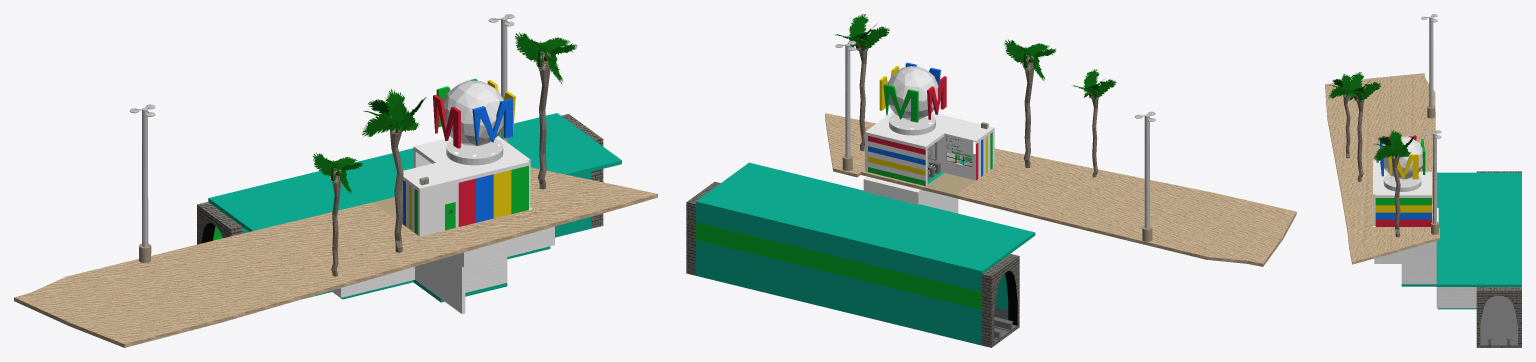
The model's file is Metro Entrance - Beachfront.glb.
3 renders of one model, left to right at view 1: azimuth 30°, elevation 25°; view 2: azimuth 150°, elevation 25°; view 3: azimuth 270°, elevation 25°, orthographic. The views are drawn at different scales.
Parts seen in each view (by area): view 1: Ground.001, Underground, Ext, Walls, Sign, Branches, Post, Endcaps, Air Outlet, Trunk.001, Trunk, Ground (+1 smaller); view 2: Underground, Ground.001, Ext, Endcaps, Sign, Branches, Post, Walls, Int Wall, Ground, Air Outlet, Trunk (+1 smaller); view 3: Underground, Ground.001, Walls, Ext, Branches, Endcaps, Sign, Post, Rails, Air Outlet, Trunk.001, Trunk (+2 smaller).
Boxes of the visible parts, box(x1,y1,x2,y2) form: Ground.001: box(14, 167, 657, 347); Underground: box(208, 113, 621, 302); Ext: box(401, 136, 532, 236); Walls: box(331, 226, 554, 313); Sign: box(433, 78, 515, 148); Branches: box(313, 32, 577, 193); Post: box(129, 14, 514, 262); Endcaps: box(197, 114, 603, 244); Air Outlet: box(446, 138, 503, 165); Trunk.001: box(535, 51, 550, 189); Trunk: box(389, 116, 403, 252); Ground: box(369, 197, 537, 238); Underground: box(696, 162, 1035, 345); Ground.001: box(825, 113, 1296, 266); Ext: box(865, 112, 994, 186); Endcaps: box(686, 181, 1019, 347); Sign: box(879, 62, 946, 122); Branches: box(835, 14, 1116, 99); Post: box(835, 41, 1155, 241); Walls: box(863, 176, 958, 213); Int Wall: box(927, 136, 973, 179); Ground: box(861, 165, 998, 198); Air Outlet: box(889, 114, 935, 135); Trunk: box(1022, 55, 1034, 167); Underground: box(1401, 172, 1521, 341); Ground.001: box(1325, 73, 1440, 264); Walls: box(1374, 207, 1476, 308); Ext: box(1373, 159, 1431, 226); Branches: box(1328, 72, 1415, 160); Endcaps: box(1476, 171, 1521, 347); Sign: box(1380, 136, 1425, 179); Post: box(1421, 14, 1441, 234); Rails: box(1487, 297, 1511, 345); Air Outlet: box(1383, 174, 1421, 191); Trunk.001: box(1391, 147, 1400, 237); Trunk: box(1354, 91, 1364, 181).
Size of what is drawn, in the model's own units: 54.28 by 21.96 by 22.37.
Materials: 67 (7 with a texture image).
